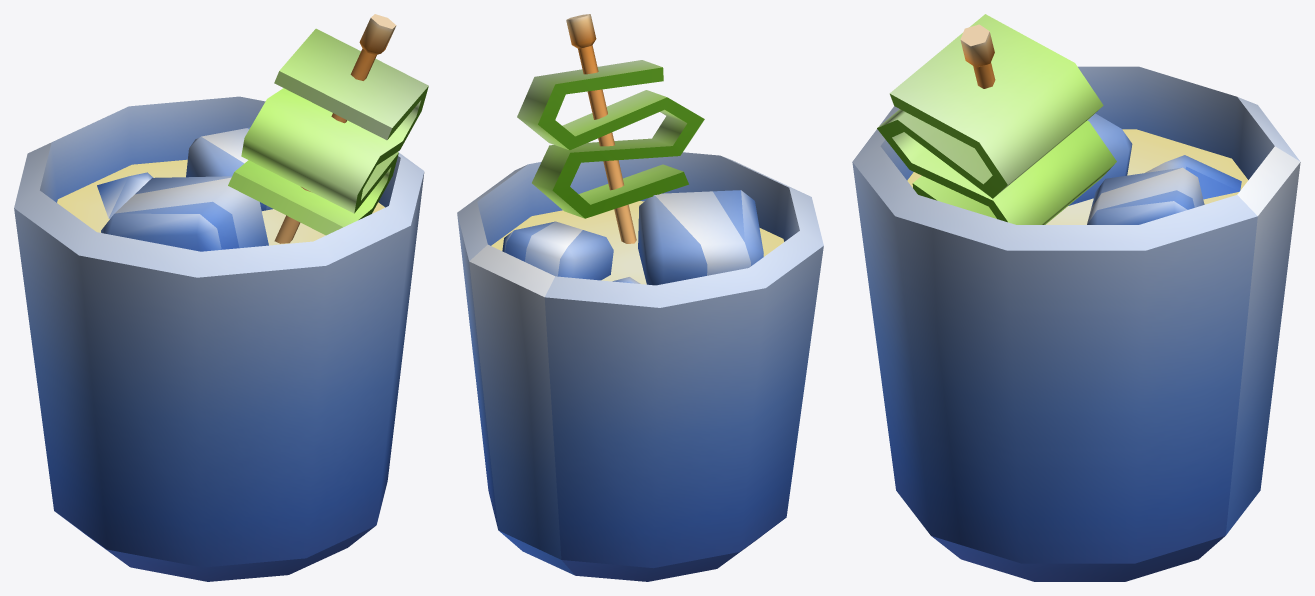
File: m_GinTonic01.fbx
3 views of the same model, side by side, from view 1: azimuth 30°, elevation 25°; view 2: azimuth 150°, elevation 25°; view 3: azimuth 270°, elevation 25° (orthographic). The views are drawn at different scales.
Parts seen in each view (by area): view 1: m_GinTonic01; view 2: m_GinTonic01; view 3: m_GinTonic01.
Part boxes in pixels (left/top/right/bottom): m_GinTonic01: left=14, top=14, right=428, bottom=581; m_GinTonic01: left=457, top=14, right=823, bottom=581; m_GinTonic01: left=852, top=14, right=1300, bottom=581.
Size of the model in its own units: 12.35 by 17.62 by 12.98.
